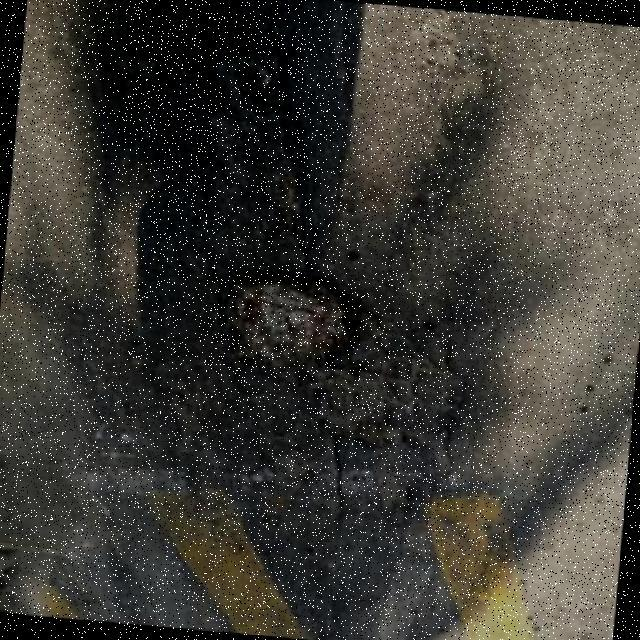Pothole: (230, 273, 465, 447)
